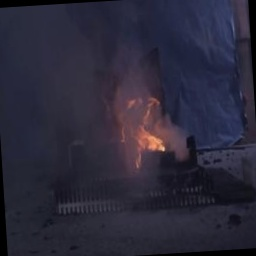fire: (122, 88, 170, 157)
